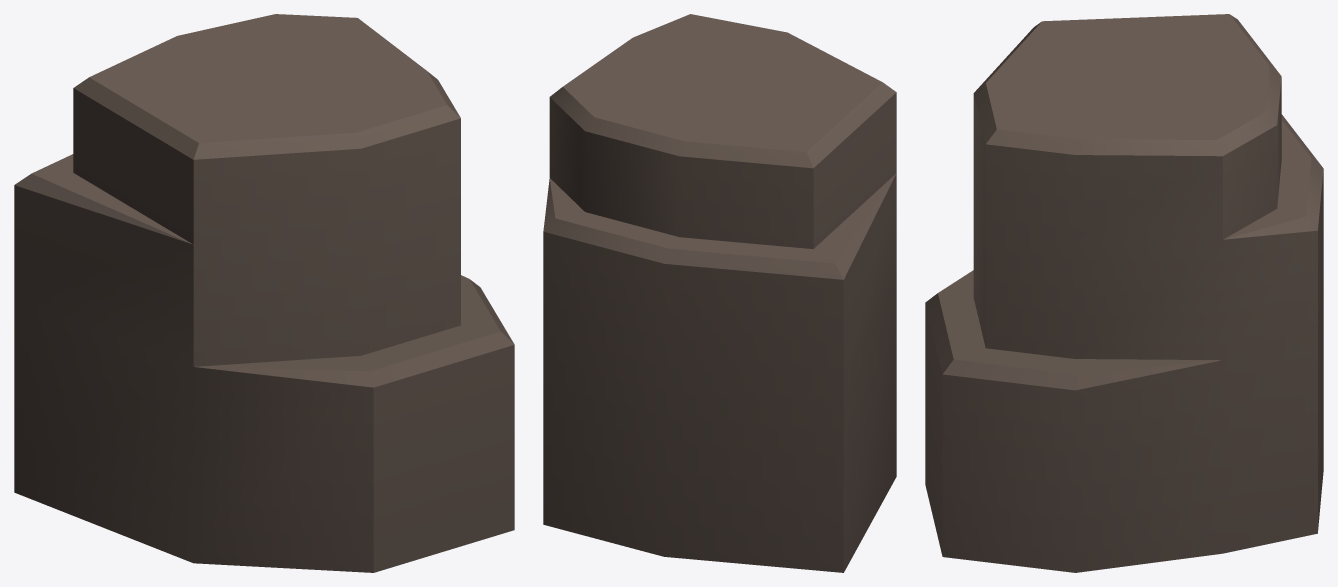
File: Rock_1_G_Color6.fbx
The picture shows the model from 3 angles, left to right: view 1: azimuth 30°, elevation 25°; view 2: azimuth 150°, elevation 25°; view 3: azimuth 270°, elevation 25°; orthographic projection. The views are drawn at different scales.
Visible parts, largest first — view 1: Rock_1_G_Color6; view 2: Rock_1_G_Color6; view 3: Rock_1_G_Color6.
Boxes of the visible parts, x1,y1,x2,y2 form: Rock_1_G_Color6: (14,14,514,572); Rock_1_G_Color6: (543,14,896,572); Rock_1_G_Color6: (925,14,1323,572).
Bounding box in the file's own units: 1.75 × 1.87 × 1.65.
